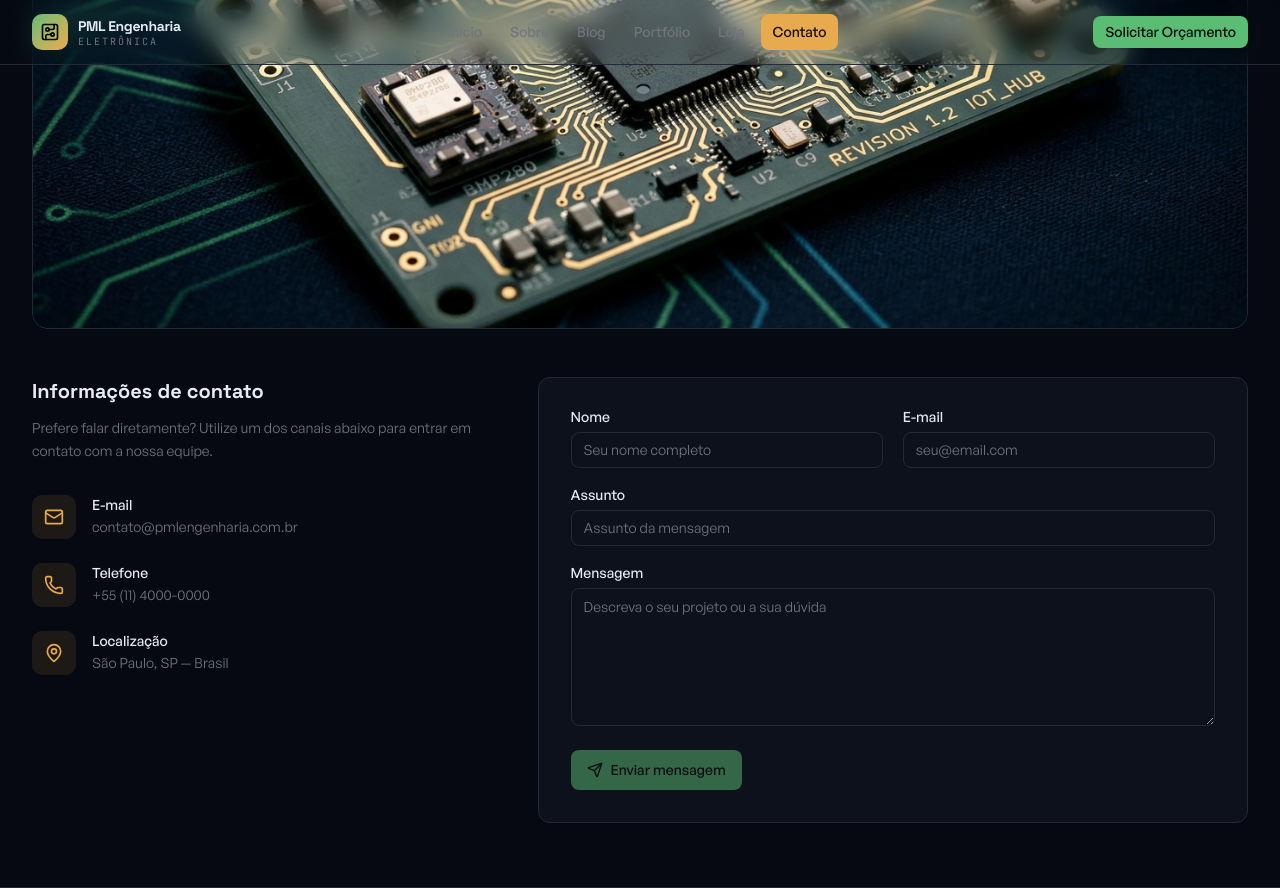
Scenario: Contato (contact form) › submits a message and shows a confirmation
(page scrolled)
In the field labelled "Nome": (727, 450) x1=571 y1=432 x2=883 y2=468, type "Patrício Mateus da Luz"
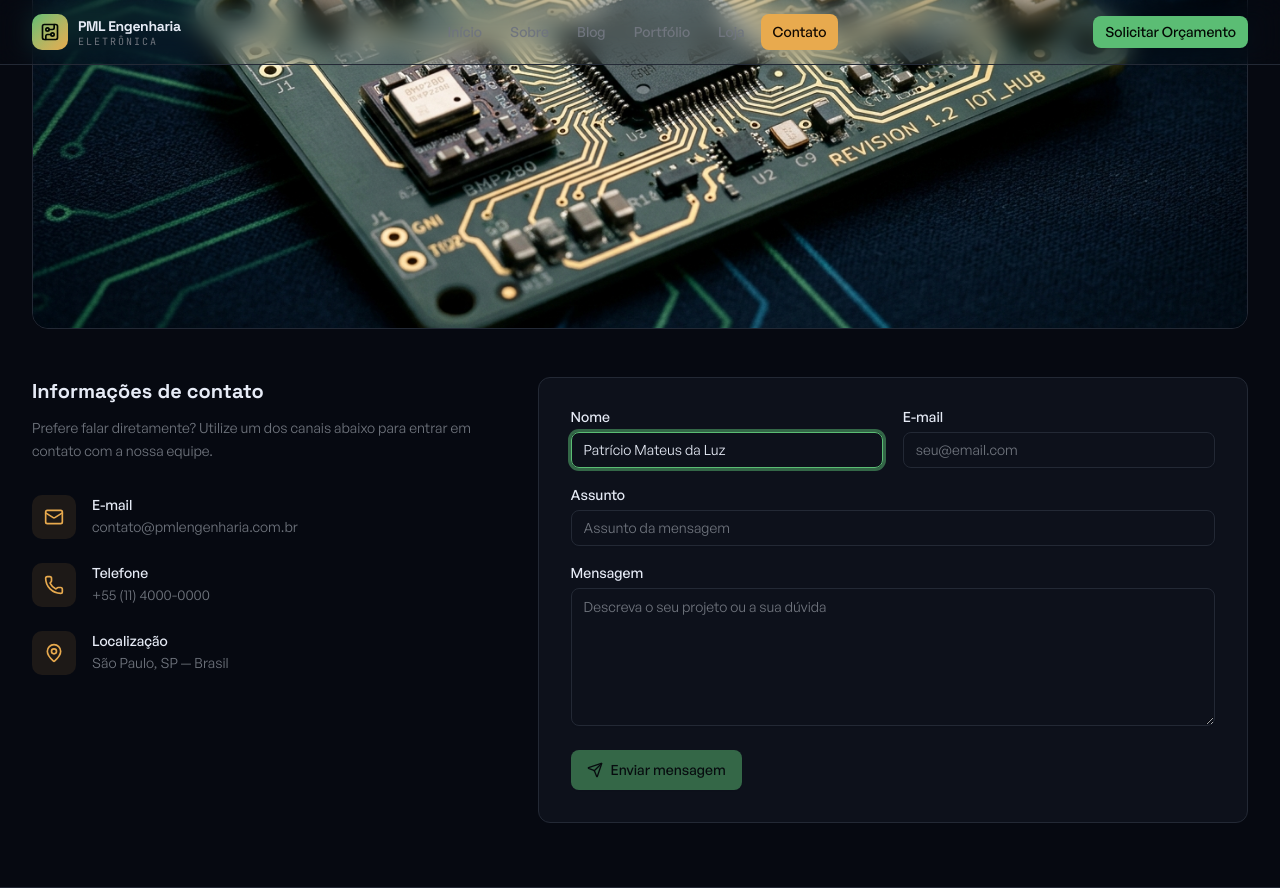
In the field labelled "E-mail": (1059, 450) x1=903 y1=432 x2=1215 y2=468, type "contato@example.com"
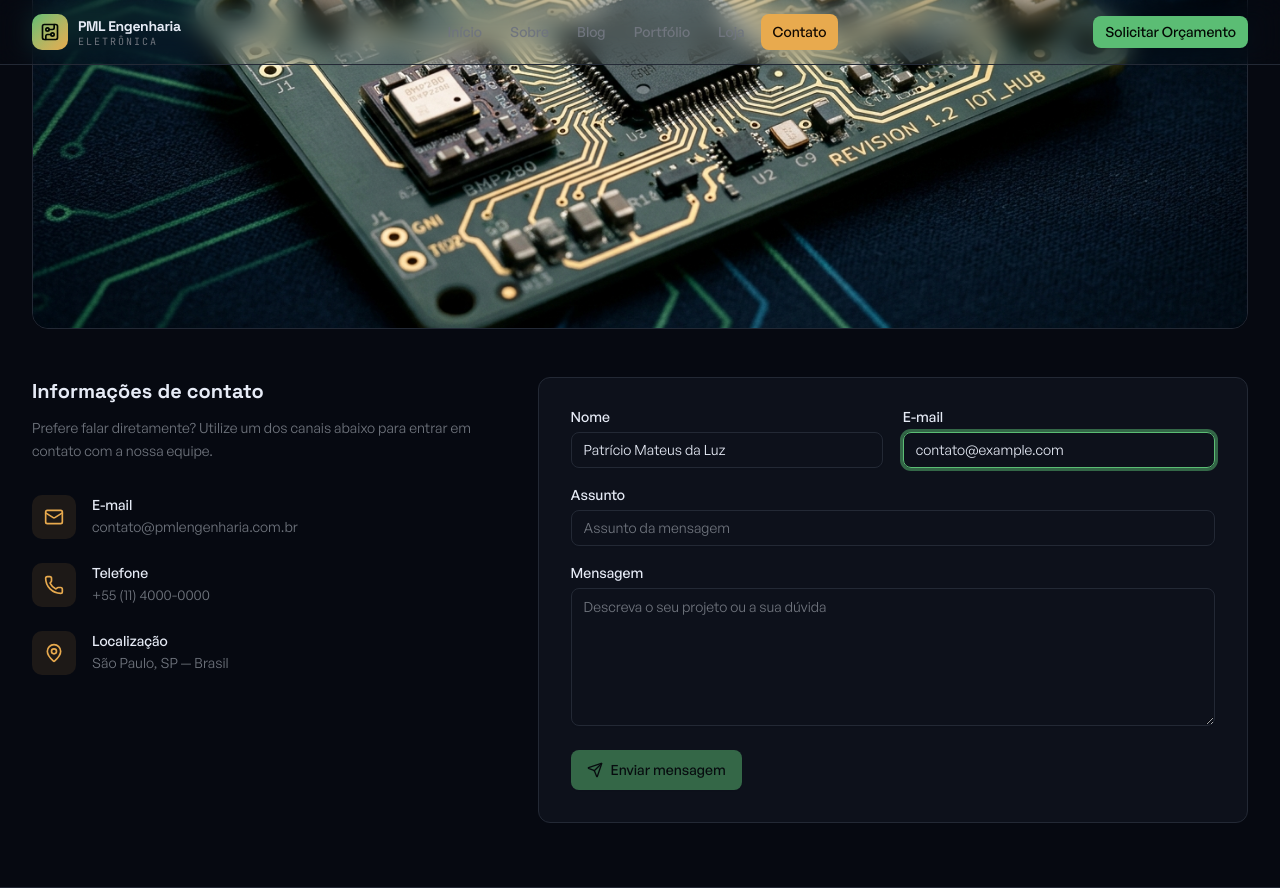
In the field labelled "Assunto": (893, 528) x1=571 y1=510 x2=1215 y2=546, type "Consultoria B2B"
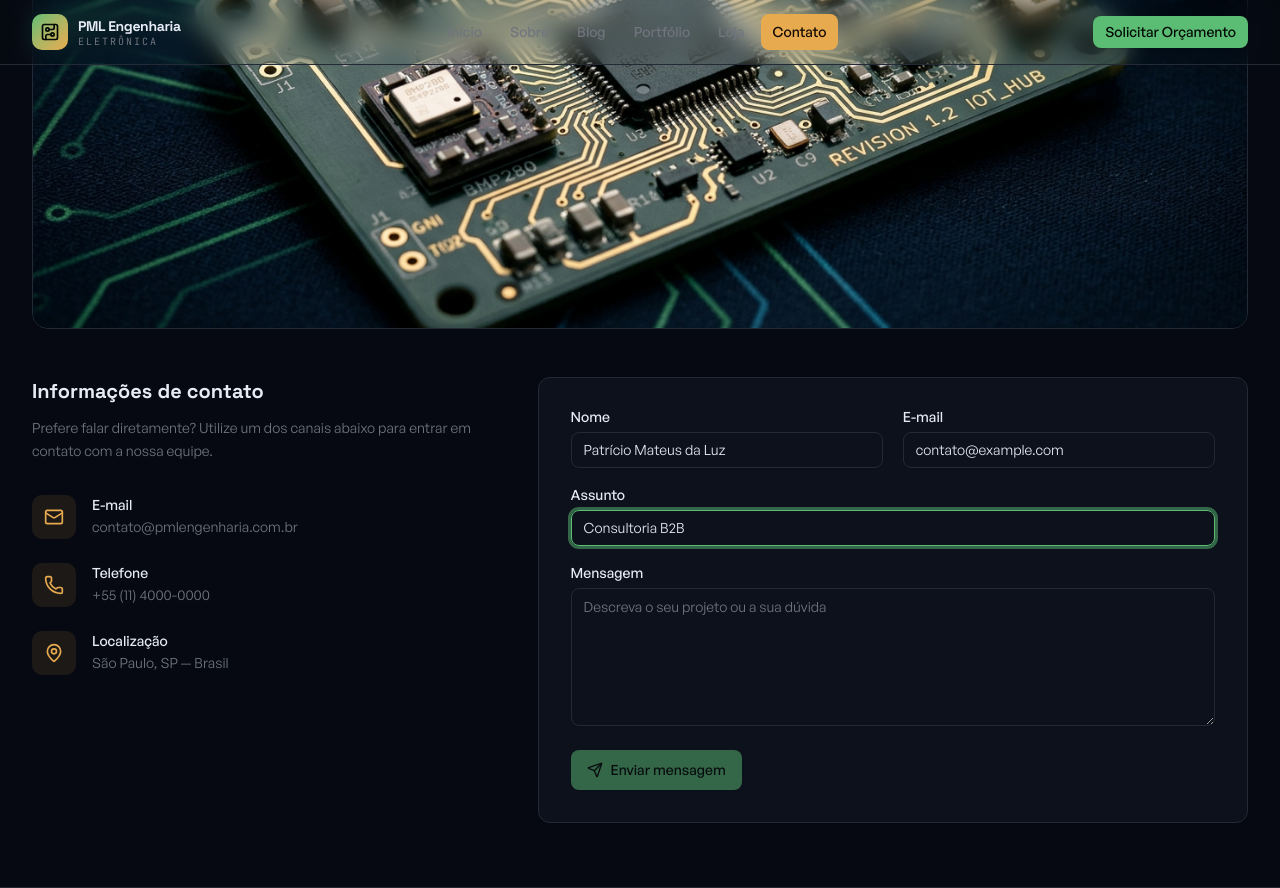
In the text box labelled "Mensagem": (893, 657) x1=571 y1=588 x2=1215 y2=726, type "Preciso de uma consultoria para meu projeto."
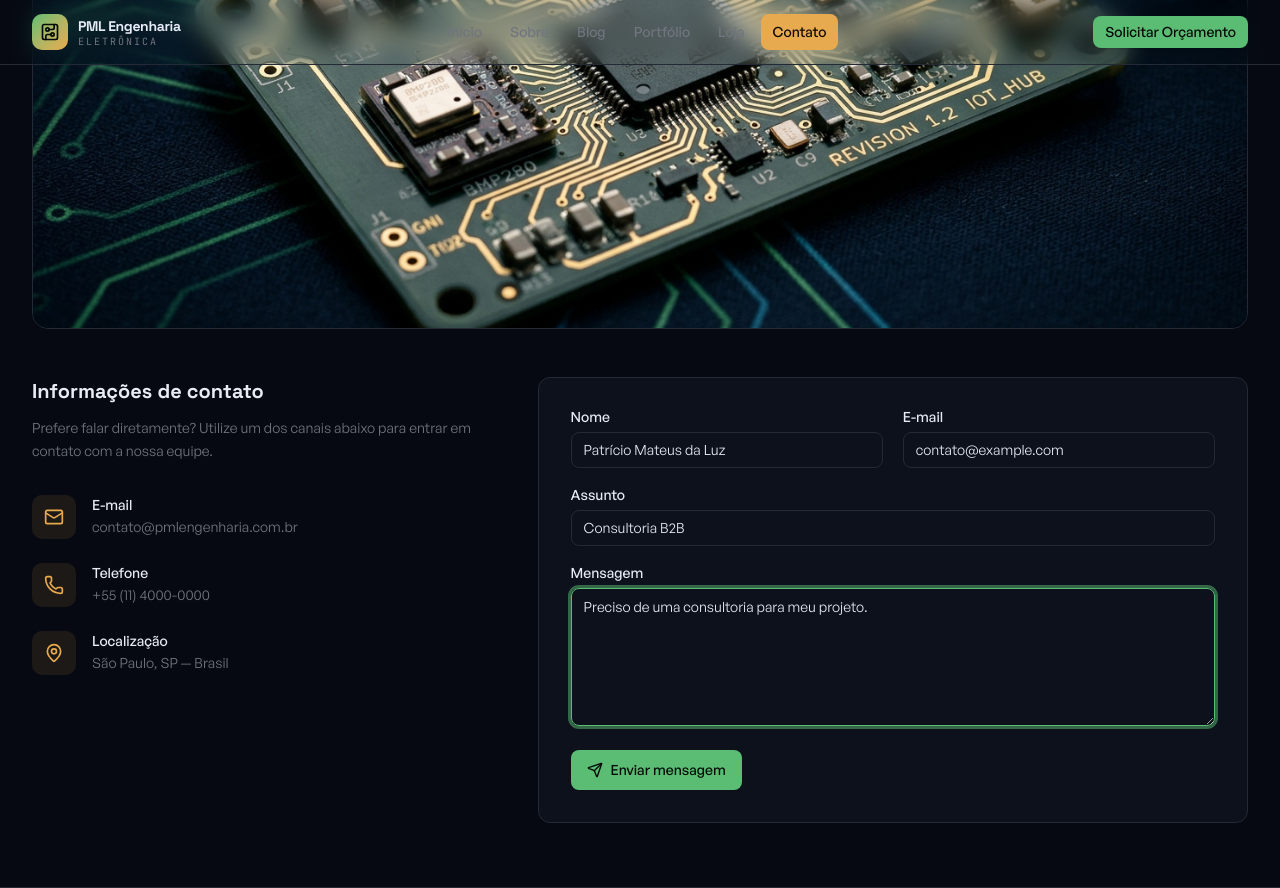
Click the button "Enviar mensagem": (656, 770) x1=571 y1=750 x2=742 y2=790
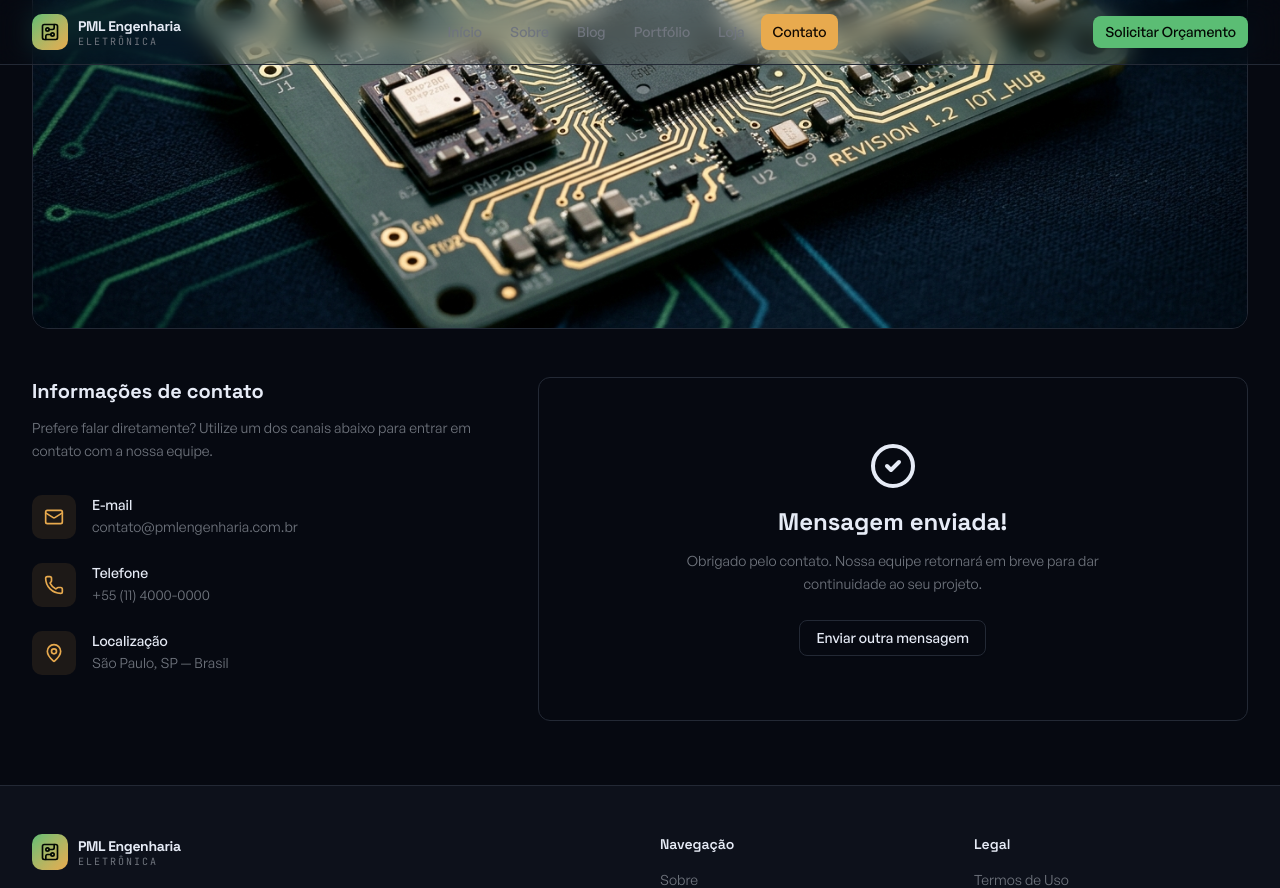
Expected: the heading "Mensagem enviada!" is shown, x1=778 y1=506 x2=1008 y2=538
